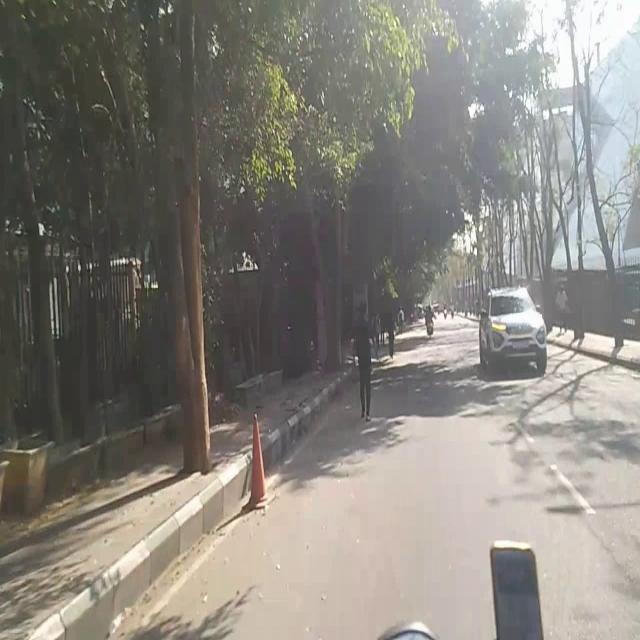car: (478, 287, 548, 377)
person: (351, 289, 374, 436)
road: (173, 432, 640, 640), (310, 331, 640, 429)
sidewalk: (0, 486, 172, 640), (169, 410, 244, 509), (551, 315, 640, 367), (244, 388, 301, 444), (302, 352, 349, 407)
